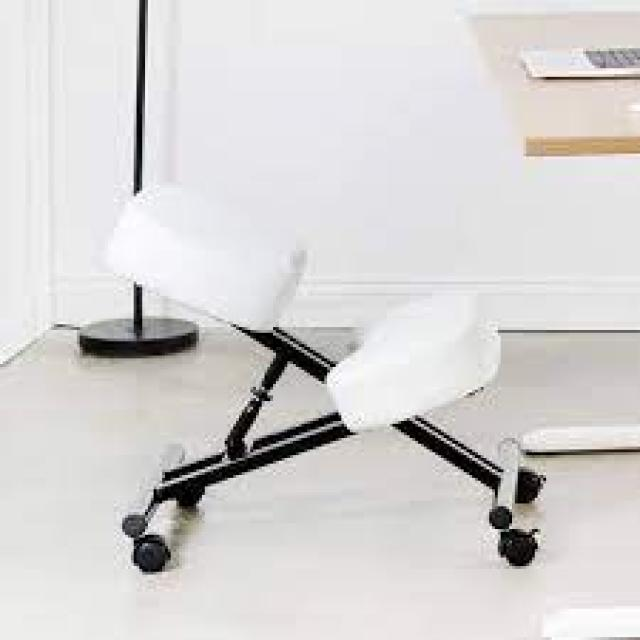chair: (53, 152, 604, 640)
